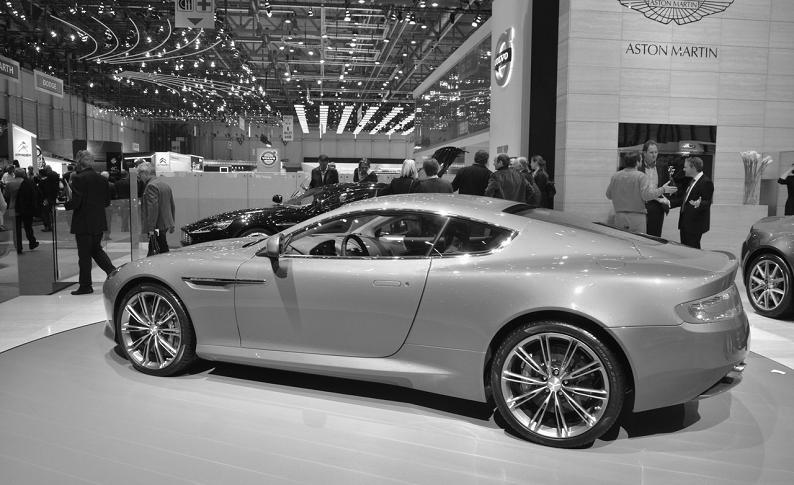car: (100, 188, 757, 453)
